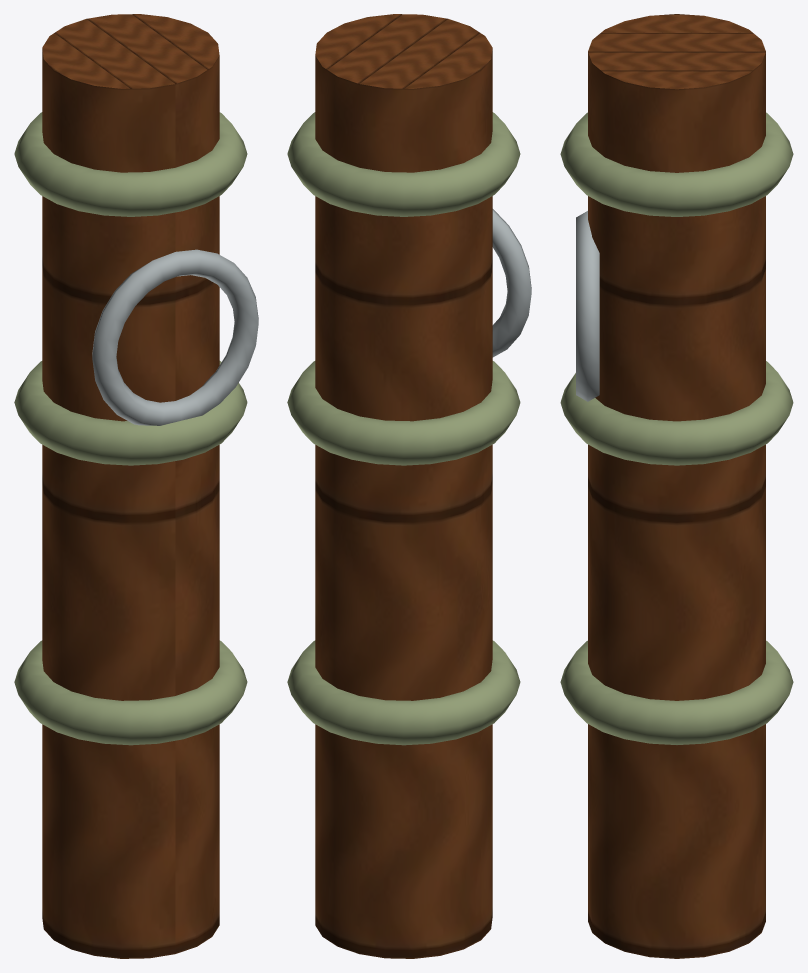
The model's file is creature-husbandry-and-transport-training-post-24c670c7__23985.glb.
3 views of the same model, side by side, from view 1: azimuth 30°, elevation 25°; view 2: azimuth 150°, elevation 25°; view 3: azimuth 270°, elevation 25° (orthographic).
Parts seen in each view (by area): view 1: training-post; view 2: training-post; view 3: training-post.
Boxes of the visible parts, <box> form: training-post: <box>14,14,258,958</box>; training-post: <box>287,14,531,958</box>; training-post: <box>560,14,793,958</box>.
Bounding box in the file's own units: 0.34 × 1.4 × 0.34.
Materials: 3 (1 with a texture image).
